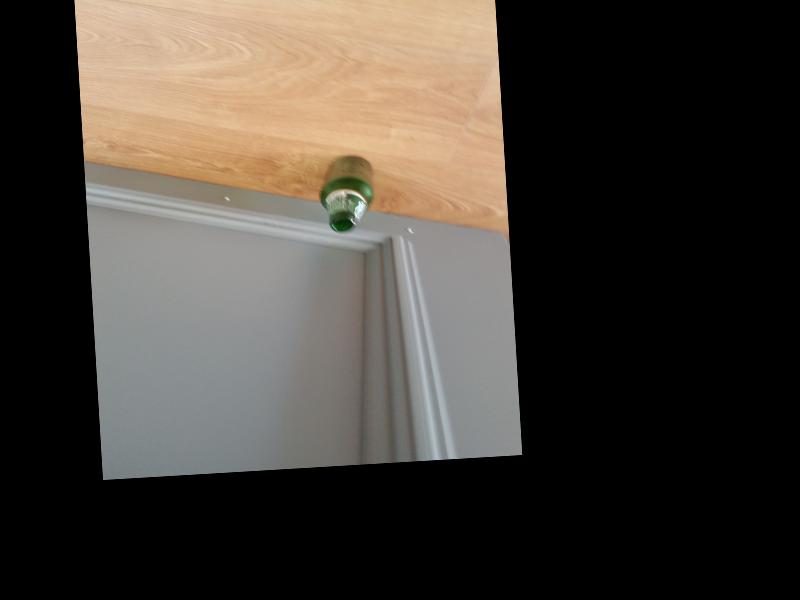Beer: (318, 155, 375, 233)
